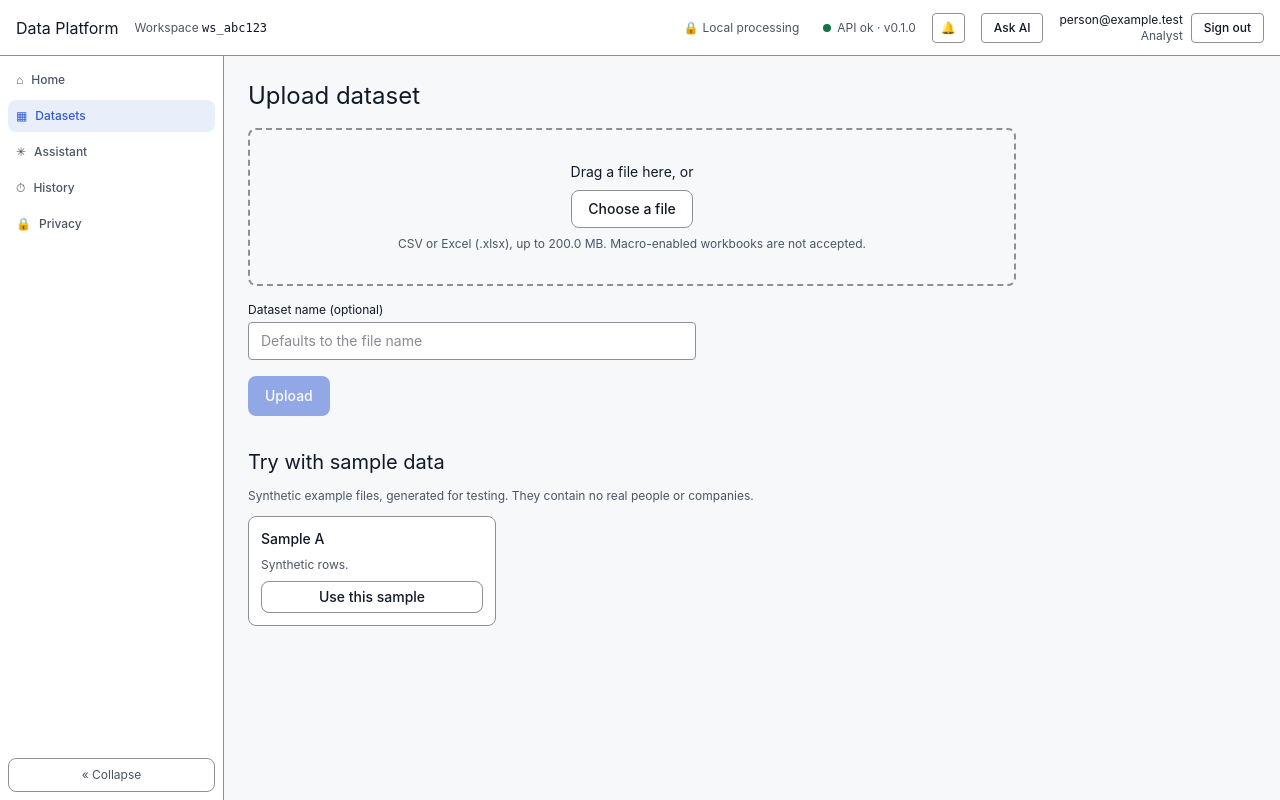
Welcome and sample data (TASK-UI-026) › loads a bundled sample into the uploader
Click the button with aria-label "Use sample: Sample A" at (372, 597), box [261,581,483,613]
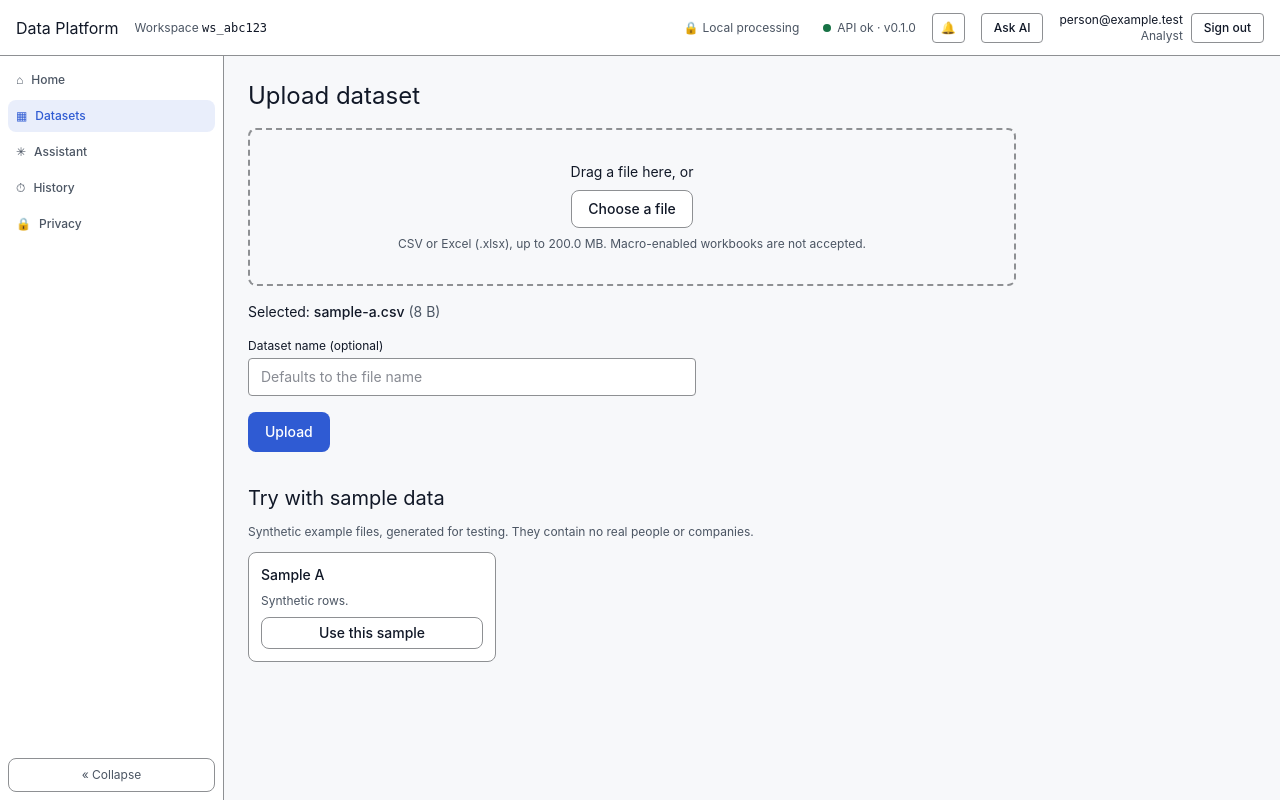
expect the text "sample-a.csv" is shown: met, box [314,303,404,320]
expect the button "Upload" is enabled: met, box [248,412,330,452]
